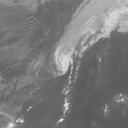cyclone: (50, 40, 74, 78)
